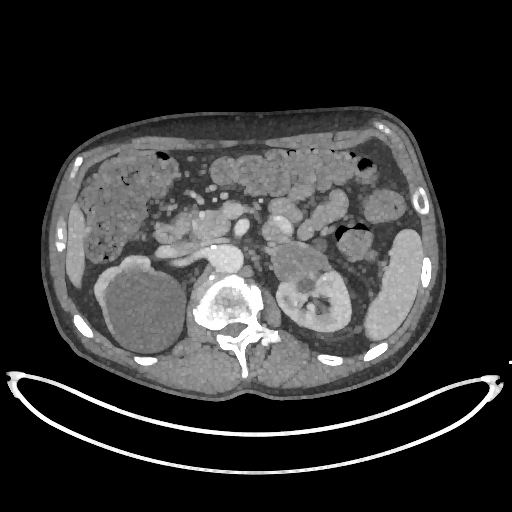Lesion: (270, 242, 334, 285)
